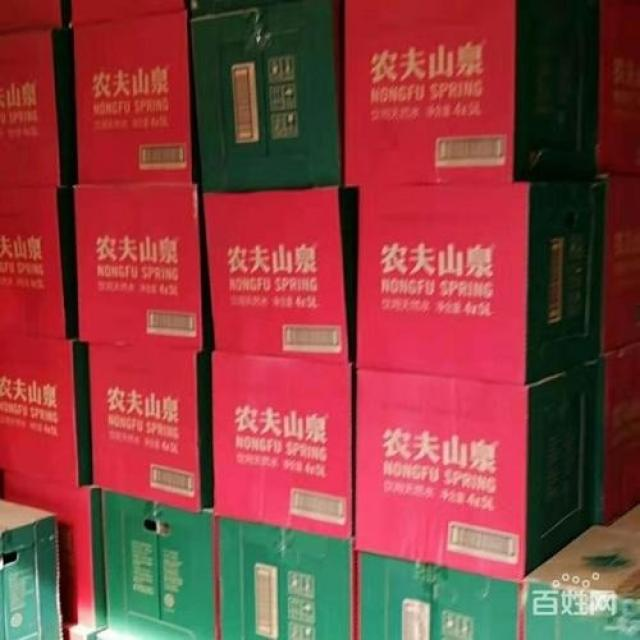box: (357, 362, 602, 579), (356, 178, 607, 383), (346, 1, 600, 187), (202, 185, 351, 363), (214, 351, 351, 537), (74, 185, 204, 351), (74, 13, 200, 183), (88, 344, 212, 512), (104, 491, 220, 639), (1, 471, 108, 629), (221, 520, 355, 640), (358, 553, 520, 639), (0, 335, 93, 484), (525, 525, 640, 640), (0, 29, 76, 188), (0, 188, 76, 337), (0, 499, 63, 639), (598, 345, 639, 524), (599, 0, 640, 176), (604, 178, 639, 353), (73, 0, 187, 26), (0, 1, 64, 27), (609, 505, 639, 530), (64, 623, 97, 640)
